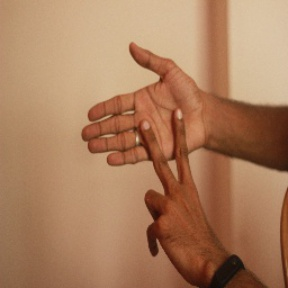N: (81, 40, 213, 231)
